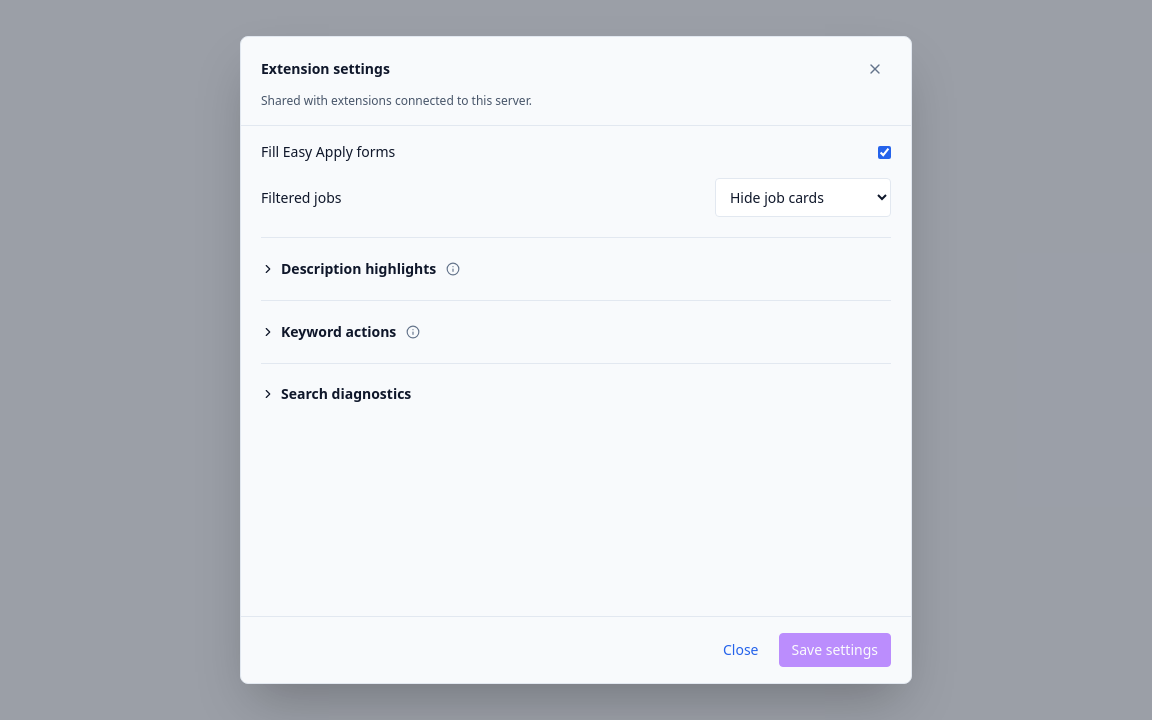
Test: Extension settings › reports diagnostic clearing failures without exposing response details
What coordinates should you click on to do the following:
click the heading "Search diagnostics"
I would click on:
 (336, 394)
Its box is [261,384,411,403].
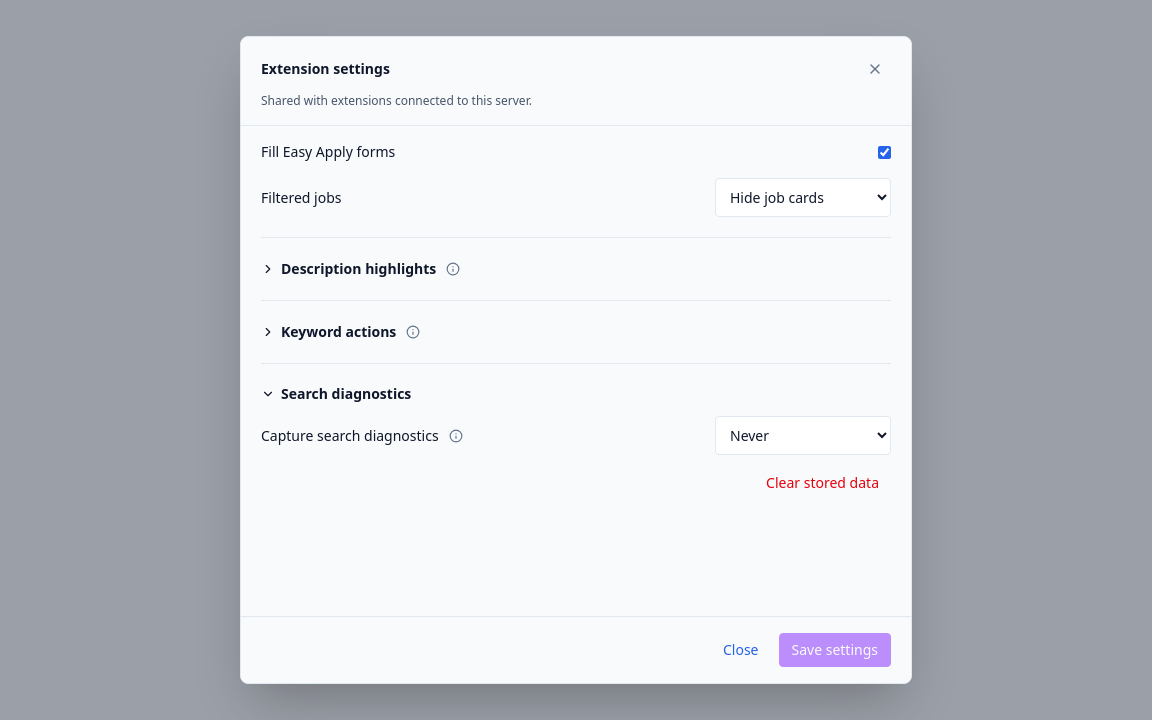
What coordinates should you click on to do the following:
click the button "Clear stored data"
I would click on:
 (823, 483)
Its box is [754,467,891,499].
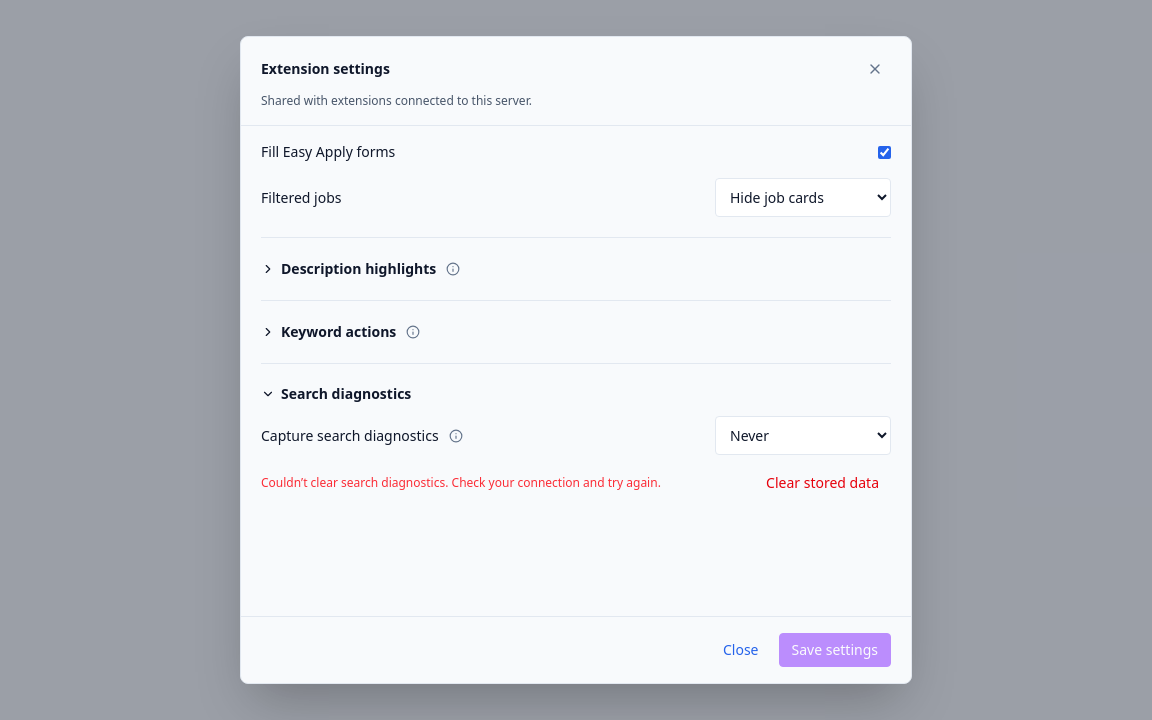
expect the text "Couldn’t clear search diagnostics. Check your connection and try again." is shown: met, box [261,475,661,491]
